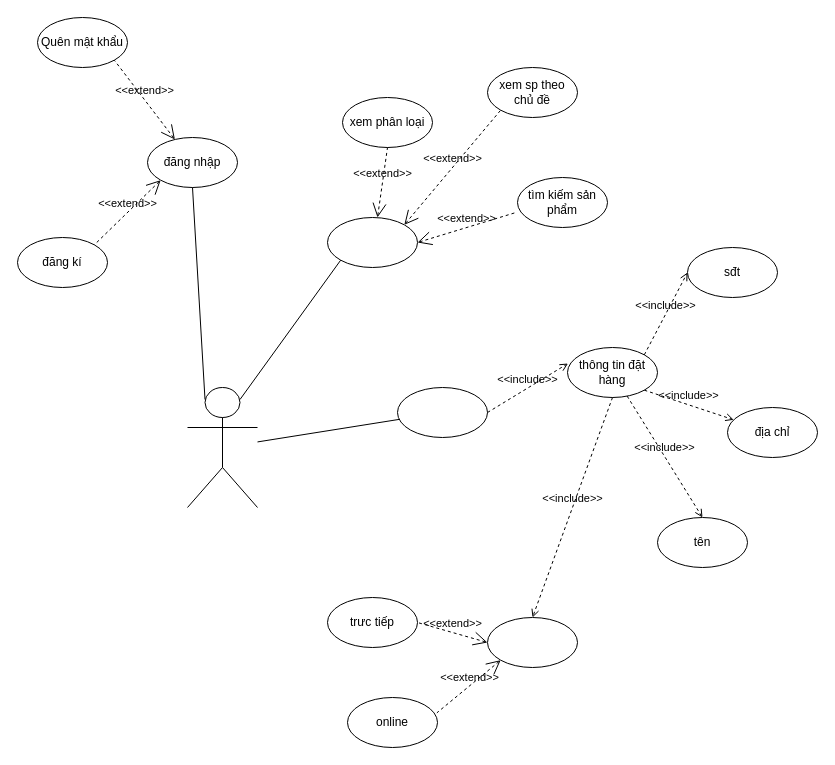
Image size: 835x765. Some labels were removed from this diagram. Each missing label, with the centre of its shape:
Khách hàng: pixel 222 447
thanh toán: pixel 532 642
xem sản phẩm: pixel 372 242
đặt hàng: pixel 442 412
